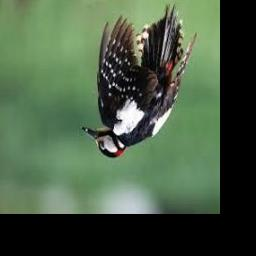Woodpecker: (81, 2, 196, 159)
